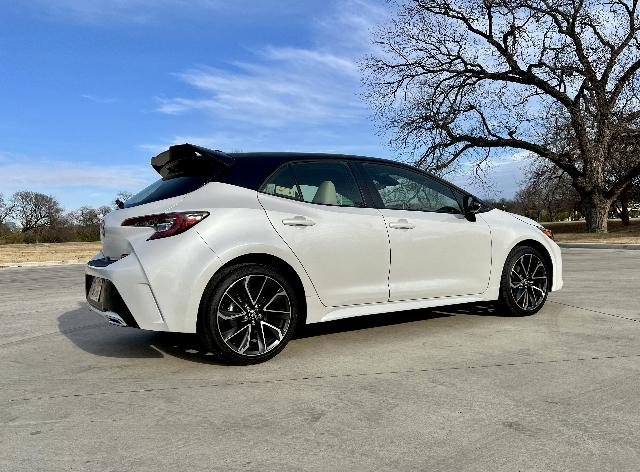toyota: (83, 142, 564, 366)
